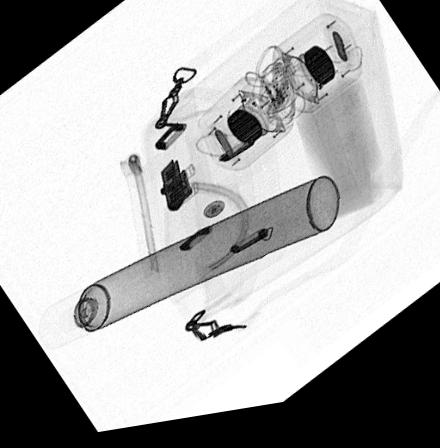Sprayer: (35, 184, 342, 353)
